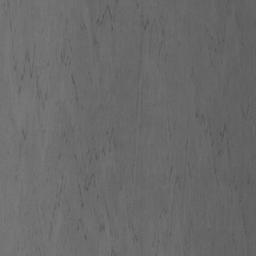Silk spot: (2, 0, 198, 256), (195, 109, 254, 249), (200, 0, 244, 65), (164, 120, 192, 193), (127, 92, 156, 132)
